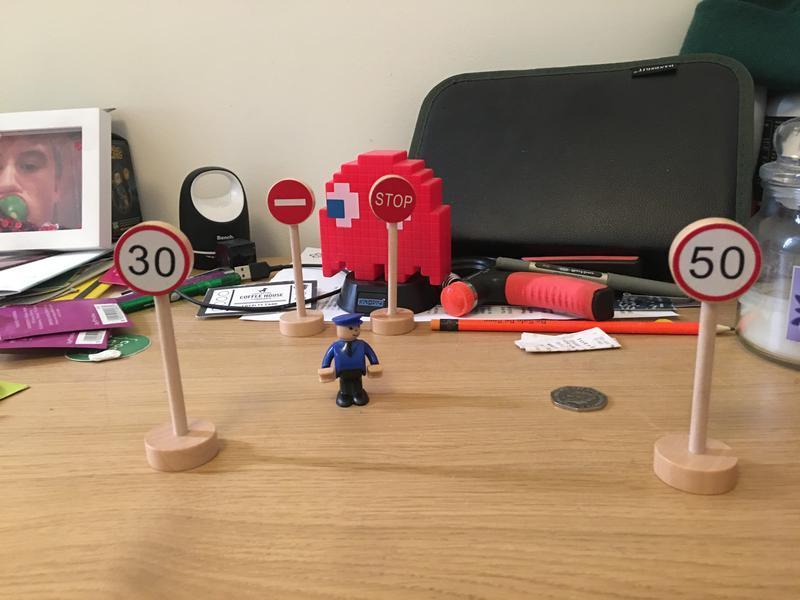Traffic_Sign_30: (115, 226, 191, 295)
Traffic_Sign_50: (672, 220, 760, 301)
Traffic_Sign_No_Entry: (267, 180, 314, 223)
Traffic_Sign_Stop: (370, 176, 416, 224)
person: (316, 309, 384, 414)
